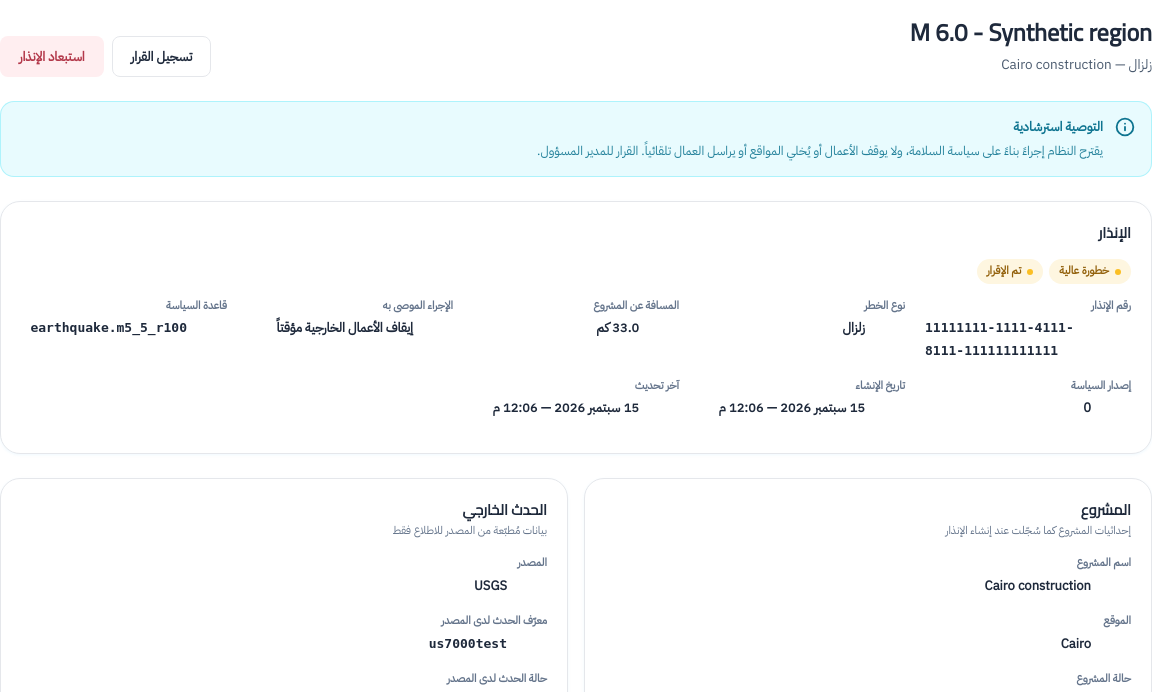
Test: SafetyAlertDetailPage › requires notes for the "other" decision and sends the exact contract
Click the button "تسجيل القرار" at (162, 57), box [112,36,211,77]
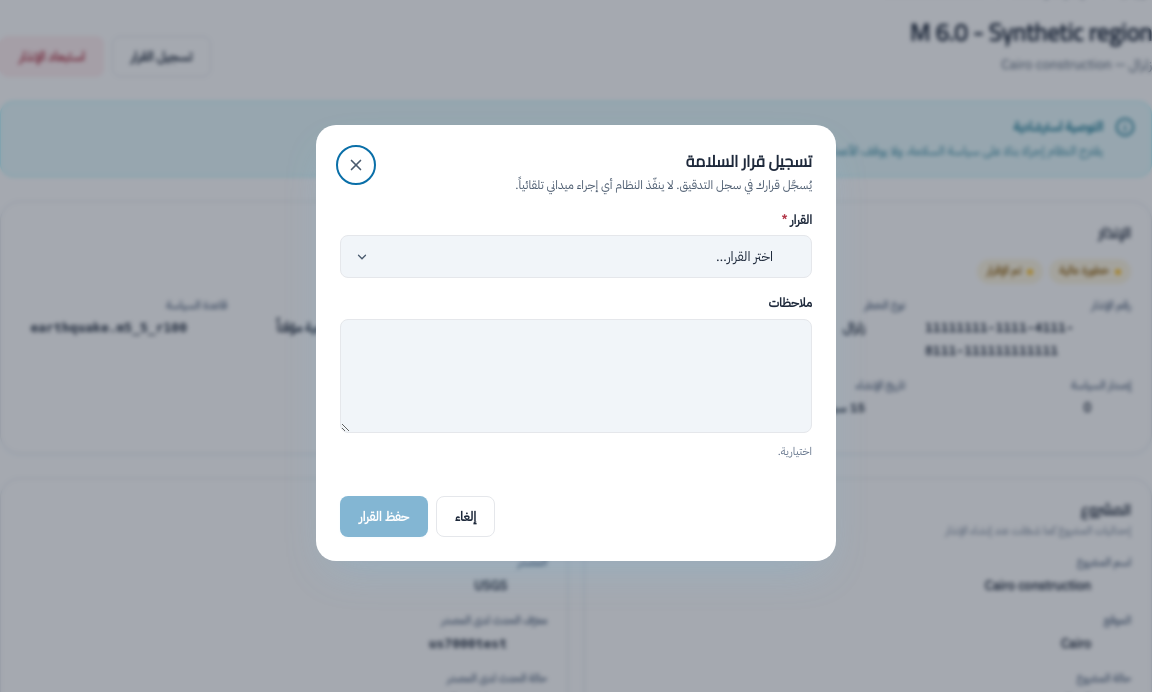
expect the button "حفظ القرار" is disabled: met, box [340,496,428,538]
Select "إجراء آخر (مع ملاحظات)" in the dropdown labelled "القرار*" at (576, 257), box [340,236,812,278]
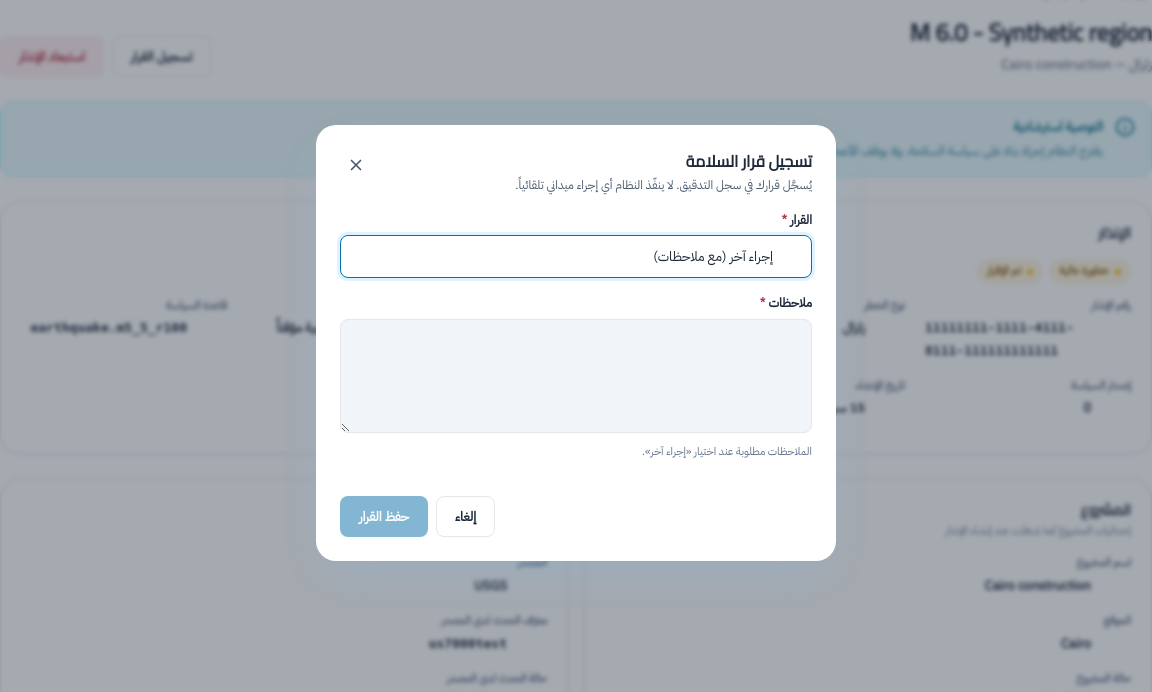
expect the button "حفظ القرار" is disabled: met, box [340,496,428,538]
Type "Delay concrete pour" into the text box labelled "ملاحظات*" at (576, 376), box [340,319,812,433]
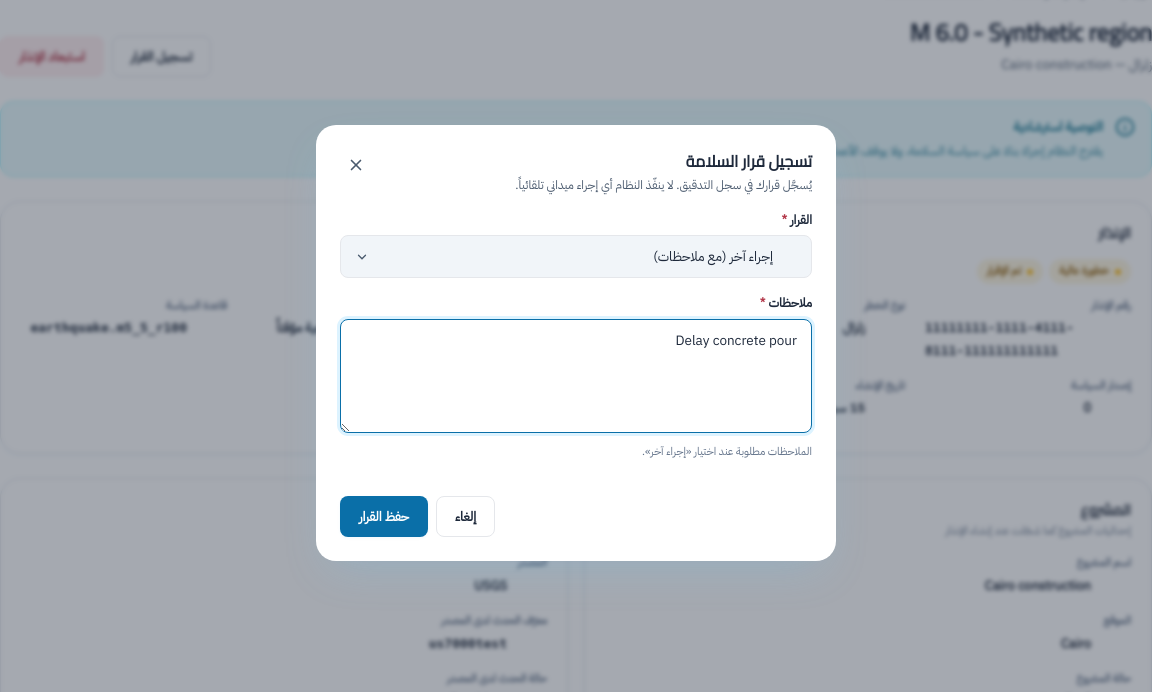
expect the button "حفظ القرار" is enabled: met
Click the button "حفظ القرار" at (384, 517), box [340,496,428,538]
(page scrolled)
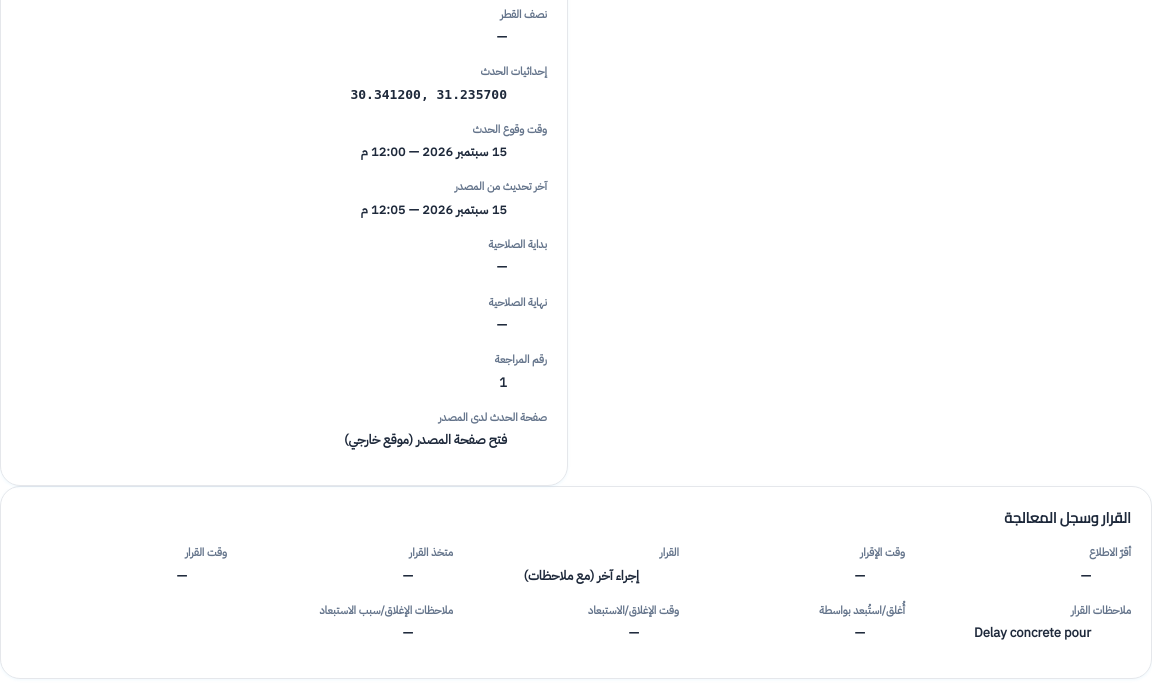
expect the text "Delay concrete pour" is shown: met, box [974,623,1091,642]
